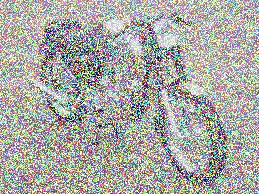Vehicle: (22, 12, 228, 185)
